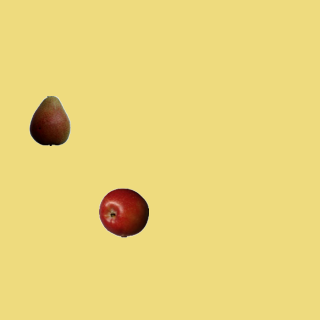Apple Braeburn: (98, 187, 148, 237)
Pear Forelle: (24, 95, 74, 145)
